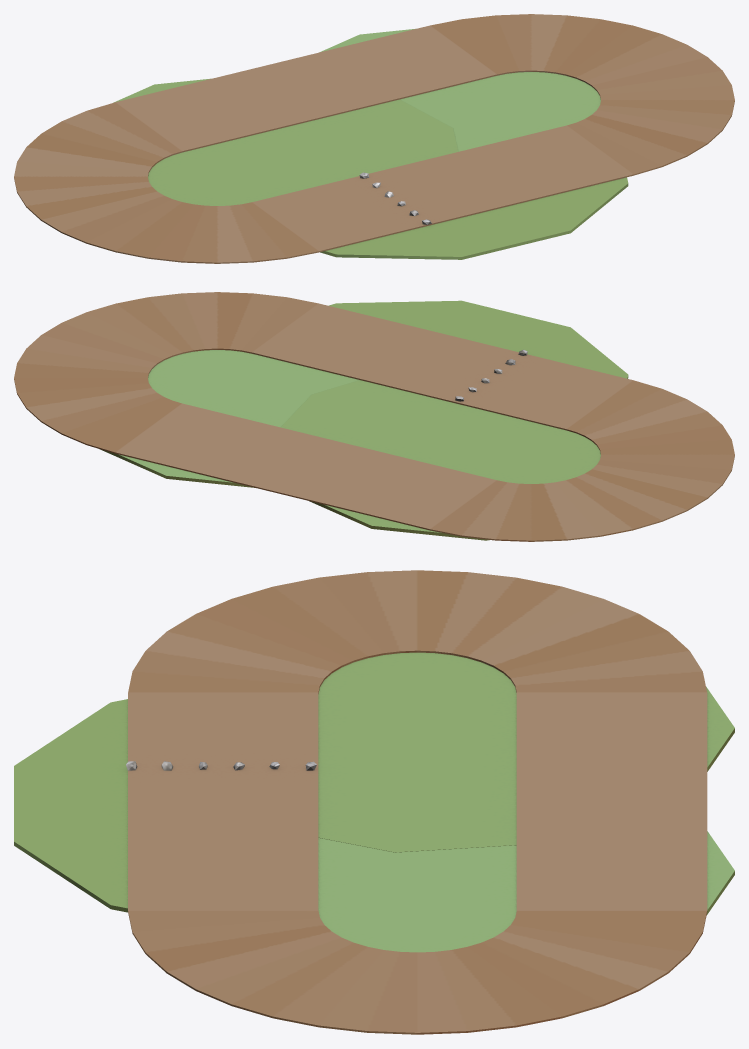
The model's file is area_track_0_0.fbx.
3 renders of one model, top to bottom at view 1: azimuth 30°, elevation 25°; view 2: azimuth 150°, elevation 25°; view 3: azimuth 270°, elevation 25°, orthographic. The views are drawn at different scales.
Visible parts, largest first — view 1: area_track_0_0_body; view 2: area_track_0_0_body; view 3: area_track_0_0_body.
Part boxes in pixels (x1,y1,x2,y2): area_track_0_0_body: [14, 14, 734, 263]; area_track_0_0_body: [14, 292, 734, 541]; area_track_0_0_body: [14, 570, 734, 1034].
Size of the model in its own units: 13800 by 173 by 9088.
1 material, 1 textured.
